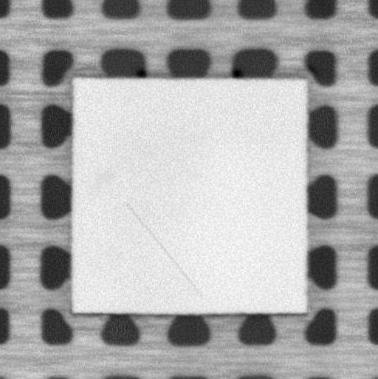DIE_CRACK: (125, 203, 203, 297)
